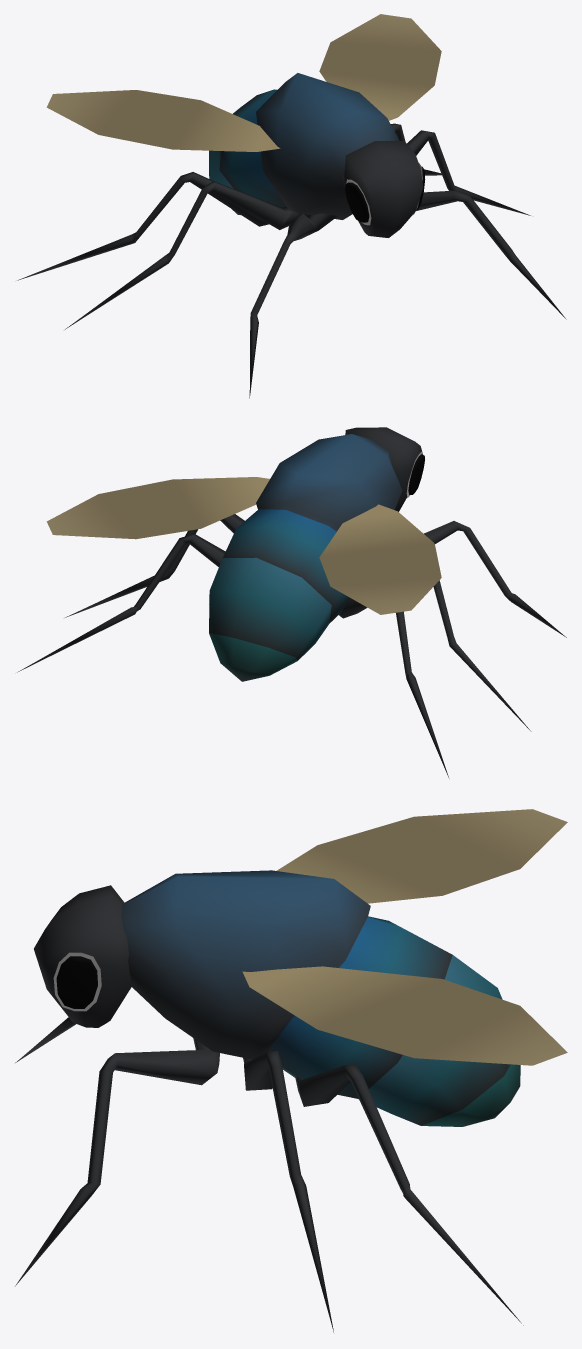
The model's file is FlyingInsects_BlueFly.fbx.
The picture shows the model from 3 angles, top to bottom: view 1: azimuth 30°, elevation 25°; view 2: azimuth 150°, elevation 25°; view 3: azimuth 270°, elevation 25°; orthographic projection. The views are drawn at different scales.
Parts seen in each view (by area): view 1: base; view 2: base; view 3: base.
Boxes of the visible parts, <box> form: base: <box>17,14,566,398</box>; base: <box>17,427,566,778</box>; base: <box>15,809,567,1332</box>.
Bounding box in the file's own units: 18.42 × 7.76 × 13.01.
